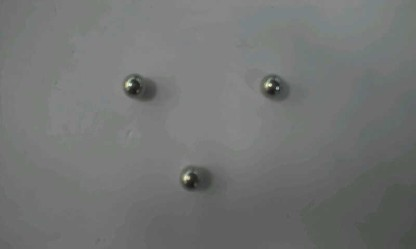ironball: (178, 165, 203, 190), (122, 72, 146, 98), (260, 73, 283, 97)
